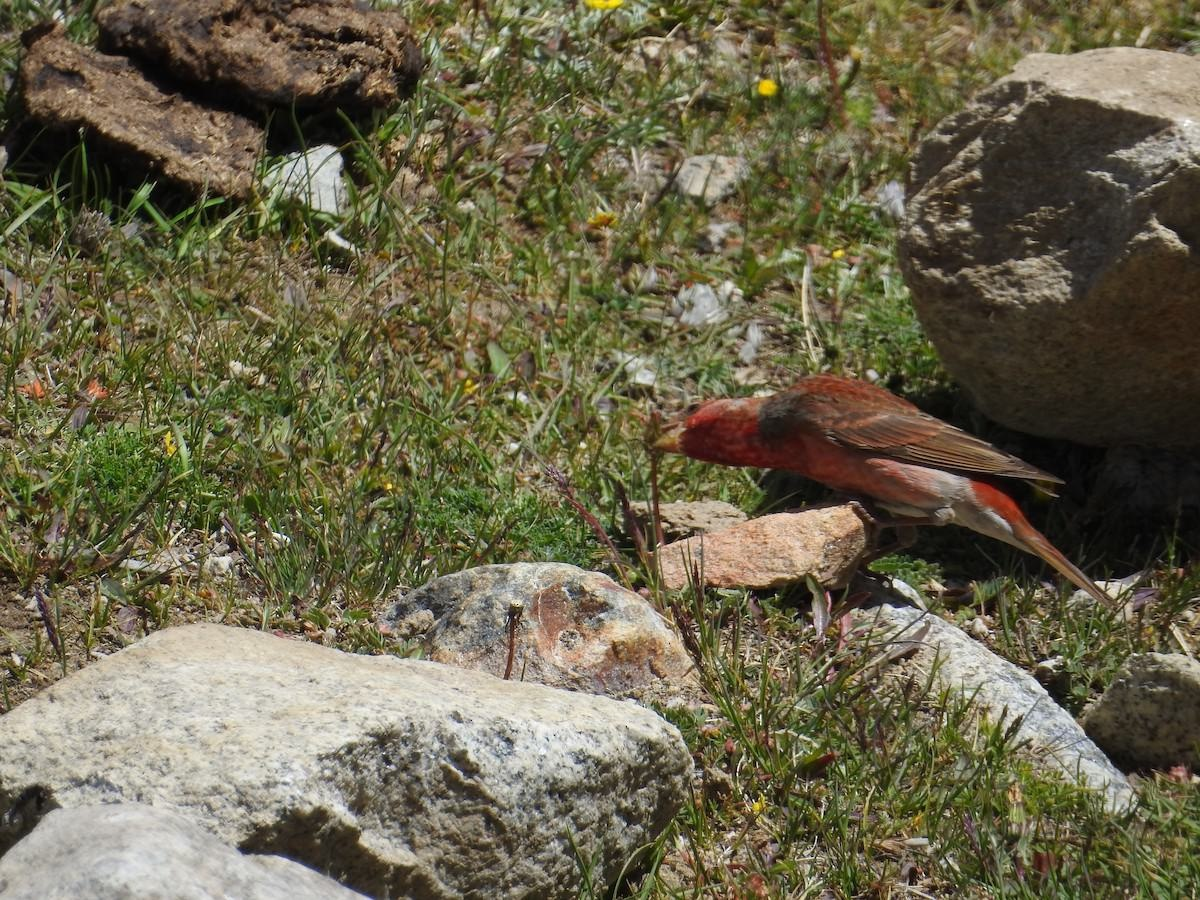rosefinch: (648, 351, 1027, 562)
